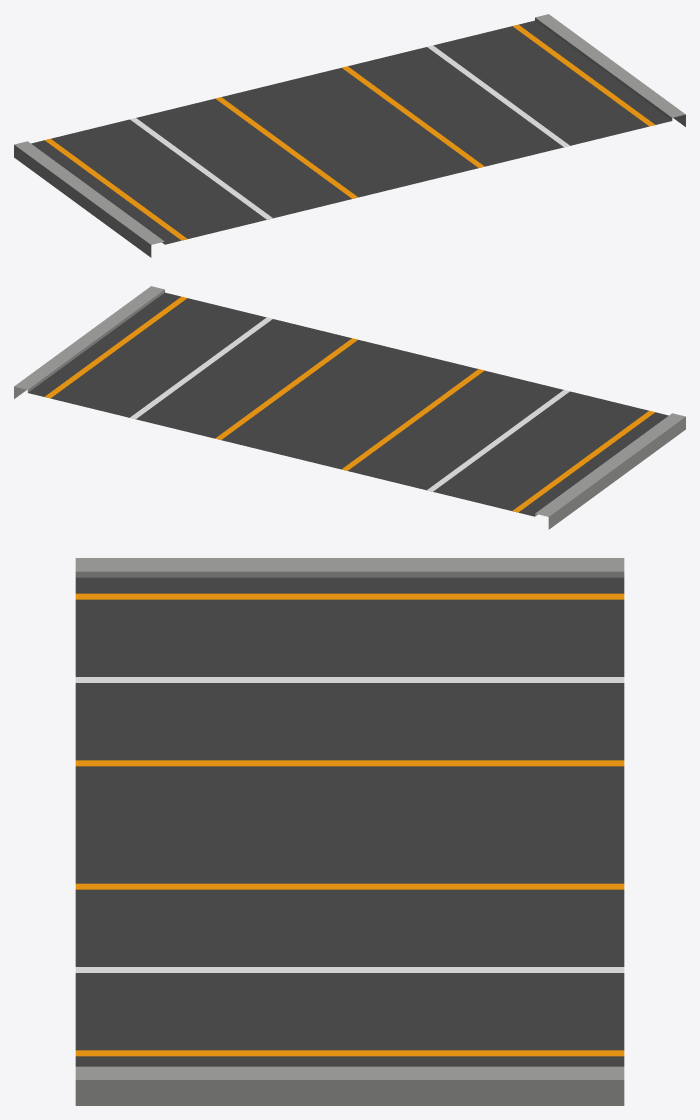
Rendered from Road_A_2L_1_2.fbx.
3 renders of one model, top to bottom at view 1: azimuth 30°, elevation 25°; view 2: azimuth 150°, elevation 25°; view 3: azimuth 270°, elevation 25°, orthographic. The views are drawn at different scales.
Parts seen in each view (by area): view 1: Road_A_2L_1_2; view 2: Road_A_2L_1_2; view 3: Road_A_2L_1_2.
Boxes of the visible parts, box(x1,y1,x2,y2) form: Road_A_2L_1_2: box(14, 14, 685, 257); Road_A_2L_1_2: box(14, 286, 685, 529); Road_A_2L_1_2: box(75, 558, 624, 1105).
Size of the model in its own units: 1800 by 41.48 by 800.
